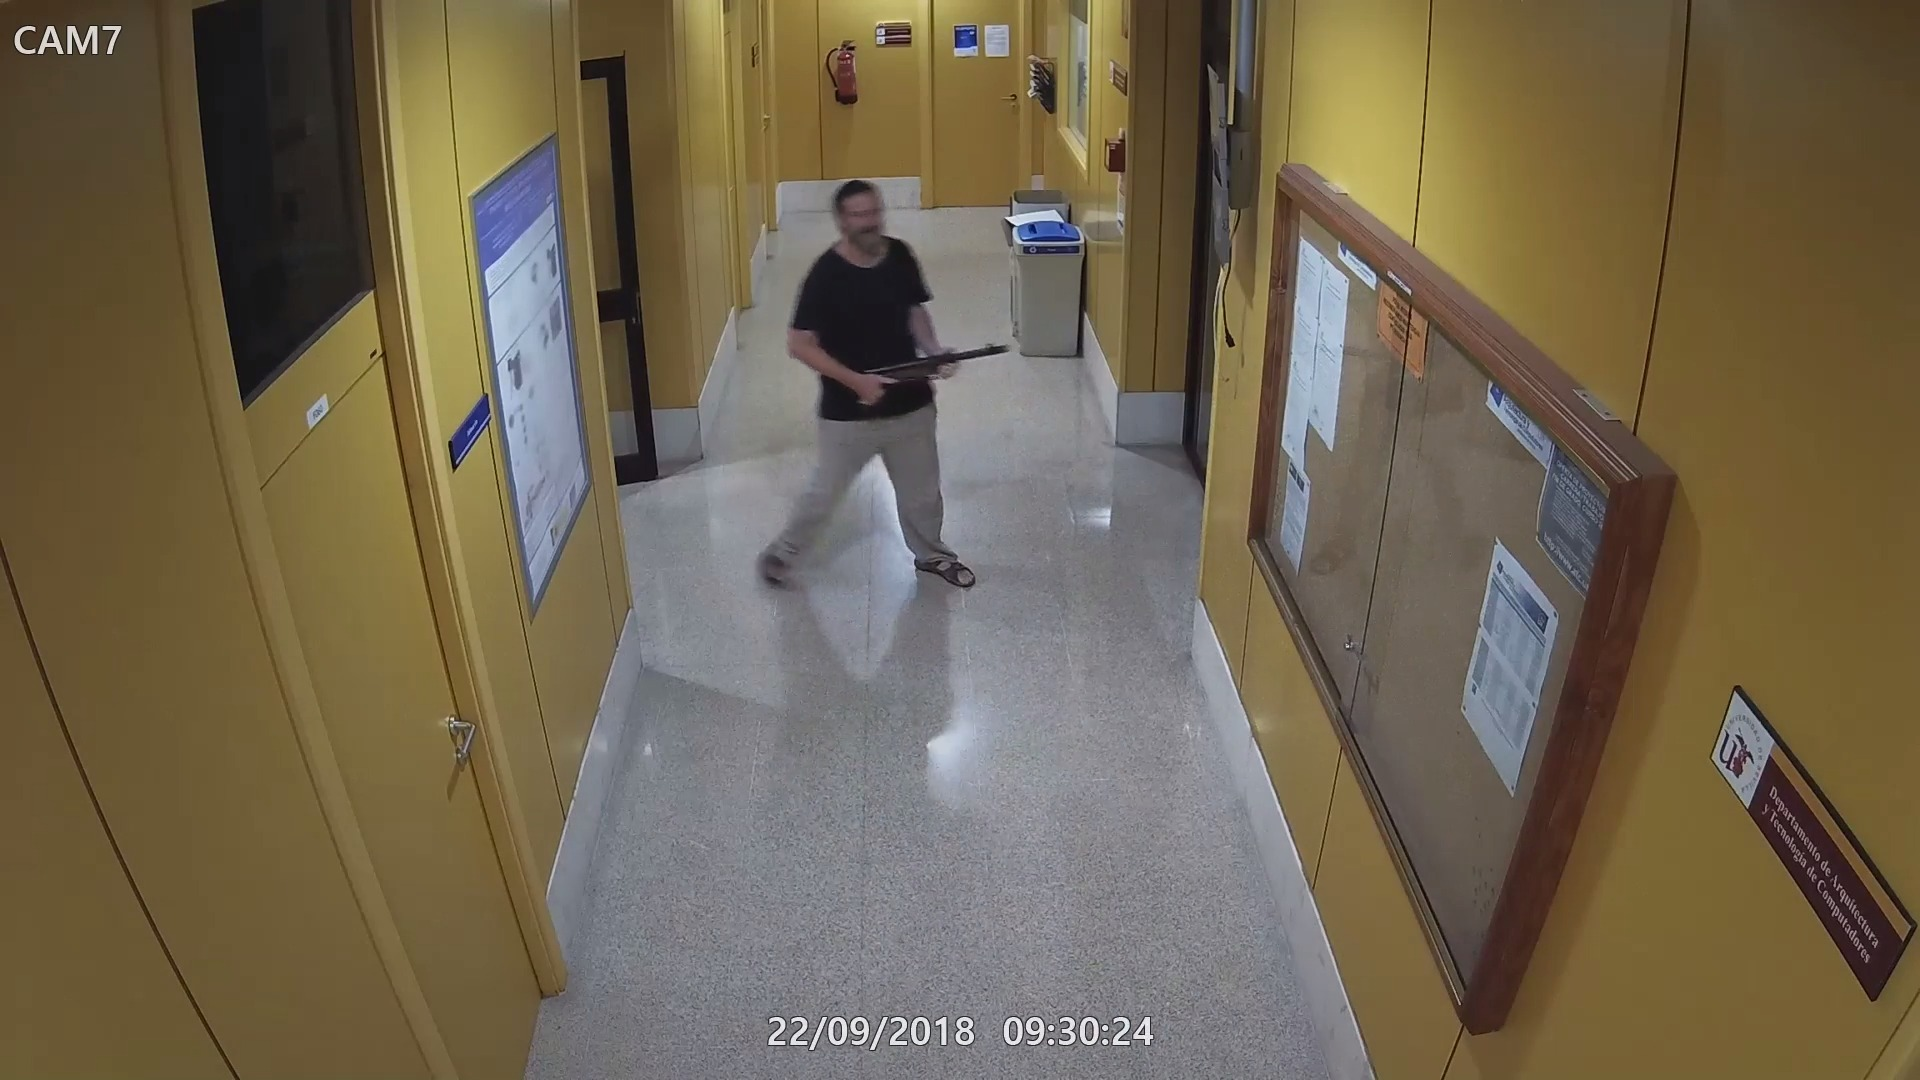rifle: (855, 336, 1014, 392)
